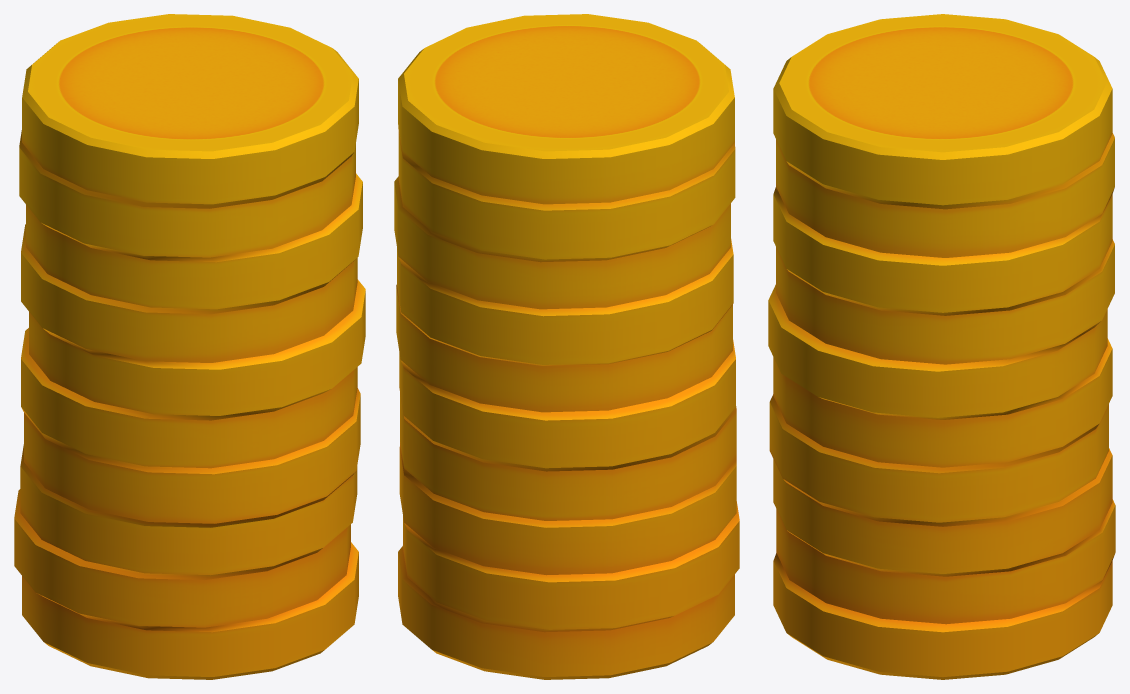
Rendered from Coins_01.FBX.
3 renders of one model, left to right at view 1: azimuth 30°, elevation 25°; view 2: azimuth 150°, elevation 25°; view 3: azimuth 270°, elevation 25°, orthographic.
Parts seen in each view (by area): view 1: Coins_01; view 2: Coins_01; view 3: Coins_01.
Part boxes in pixels (left/top/right/bottom): Coins_01: left=14, top=14, right=365, bottom=679; Coins_01: left=394, top=14, right=739, bottom=679; Coins_01: left=768, top=14, right=1115, bottom=679.
Bounding box in the file's own units: 72.57 × 120 × 71.66.
Materials: 1 (1 with a texture image).
